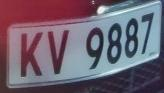7: (139, 10, 156, 59)
8: (105, 18, 125, 69), (124, 14, 141, 64)
9: (83, 21, 107, 75)
K: (17, 27, 46, 84)
V: (44, 27, 74, 78)
